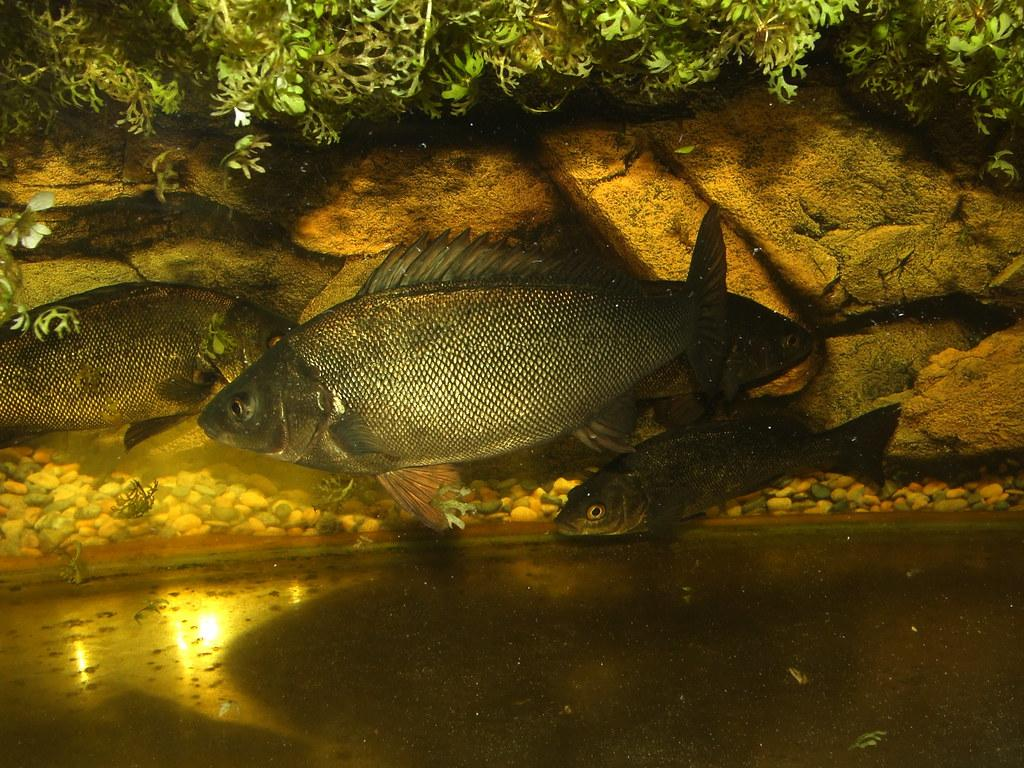Silver Perch: (207, 208, 740, 474)
